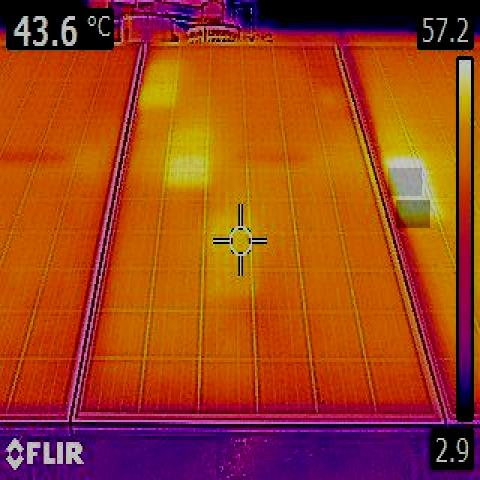fault: (388, 168, 422, 196), (396, 200, 430, 228)
